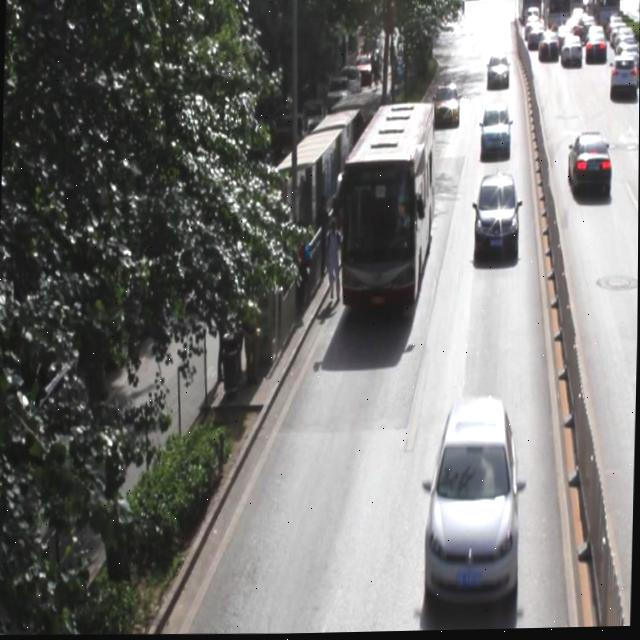car: (423, 391, 522, 606), (474, 172, 518, 251), (565, 131, 611, 196), (478, 104, 510, 155), (431, 82, 459, 124)
van: (338, 99, 432, 308)
